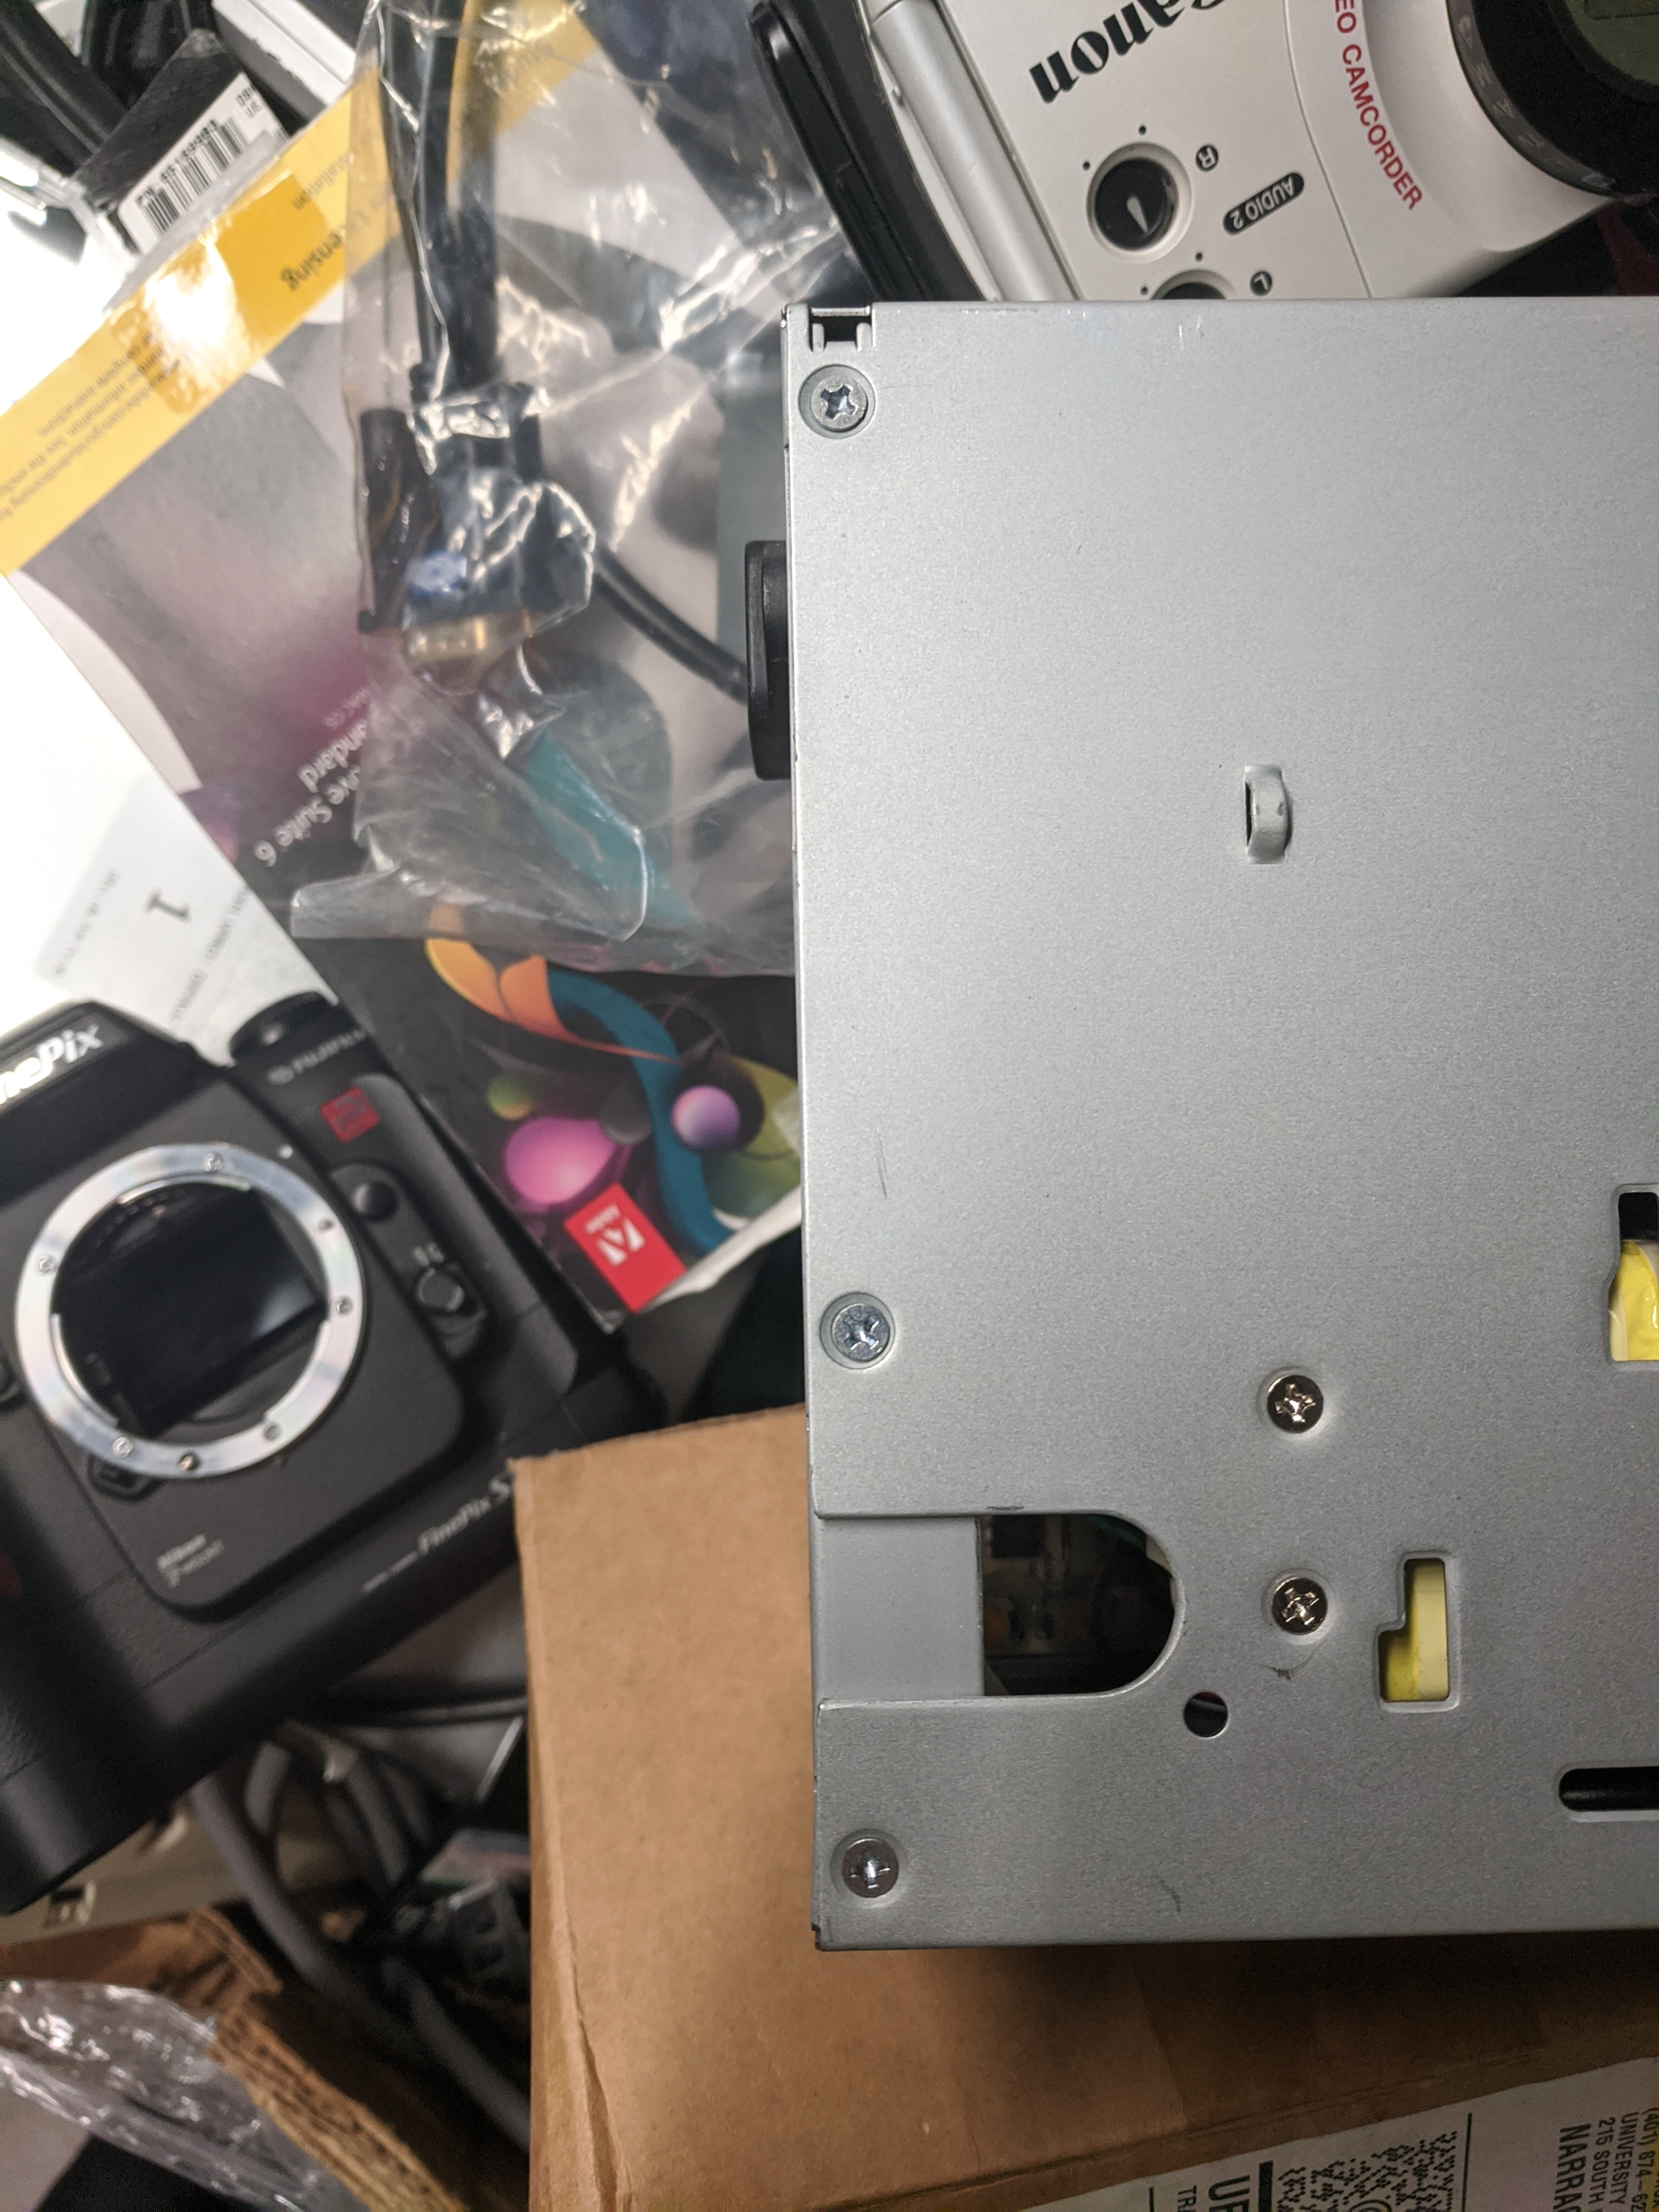cross_recessed_screw: (789, 355, 877, 446), (826, 1815, 908, 1902), (823, 1280, 896, 1374), (1263, 1552, 1333, 1639), (1263, 1355, 1331, 1425)
